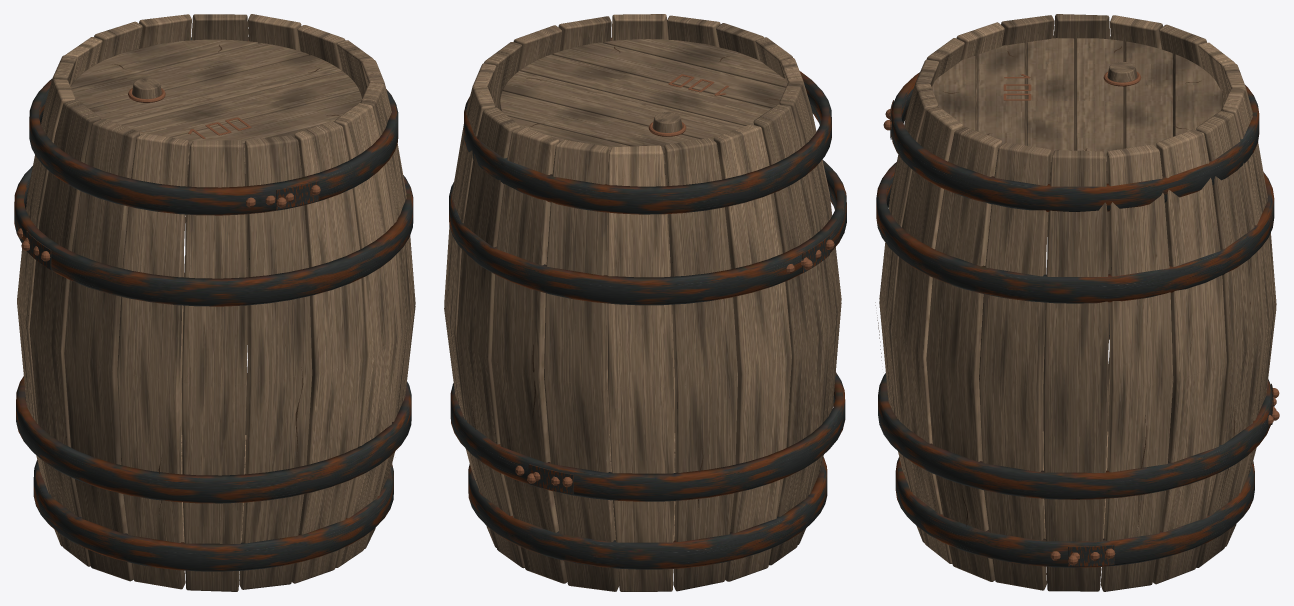
Rendered from coopers-barrel.glb.
The picture shows the model from 3 angles, left to right: view 1: azimuth 30°, elevation 25°; view 2: azimuth 150°, elevation 25°; view 3: azimuth 270°, elevation 25°; orthographic projection.
Visible parts, largest first — view 1: coopers-barrel; view 2: coopers-barrel; view 3: coopers-barrel.
Part boxes in pixels (box(x1,y1,x2,y2)): coopers-barrel: box(14, 14, 415, 591); coopers-barrel: box(444, 14, 846, 591); coopers-barrel: box(875, 14, 1279, 591).
Bounding box in the file's own units: 0.7348 × 0.8934 × 0.73.
4 materials, 2 textured.
